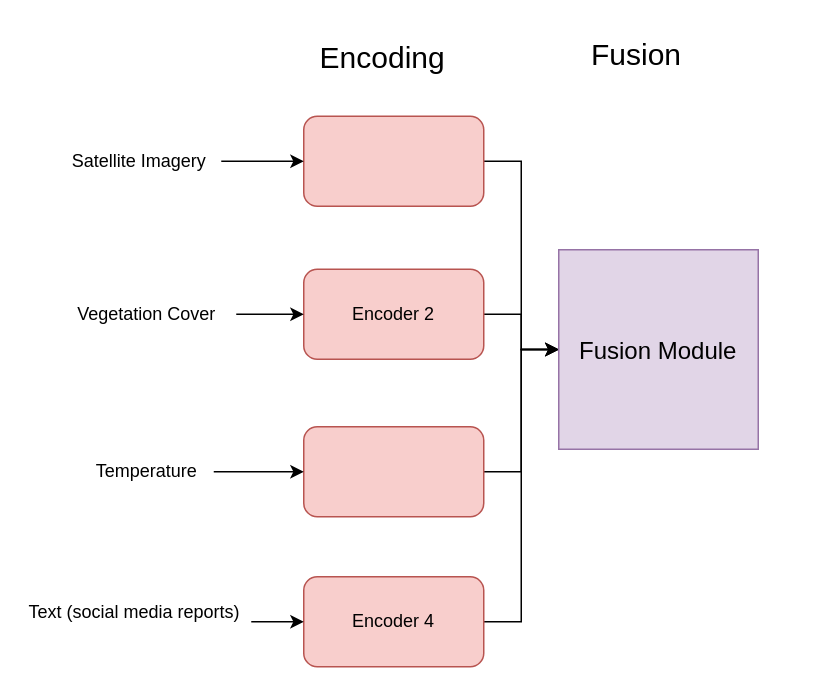
This 824x693 diagram has some shape labels left out. Each missing label, with the centre of its shape:
Encode 1: the point at 393,160
Encoder 3: the point at 393,471
